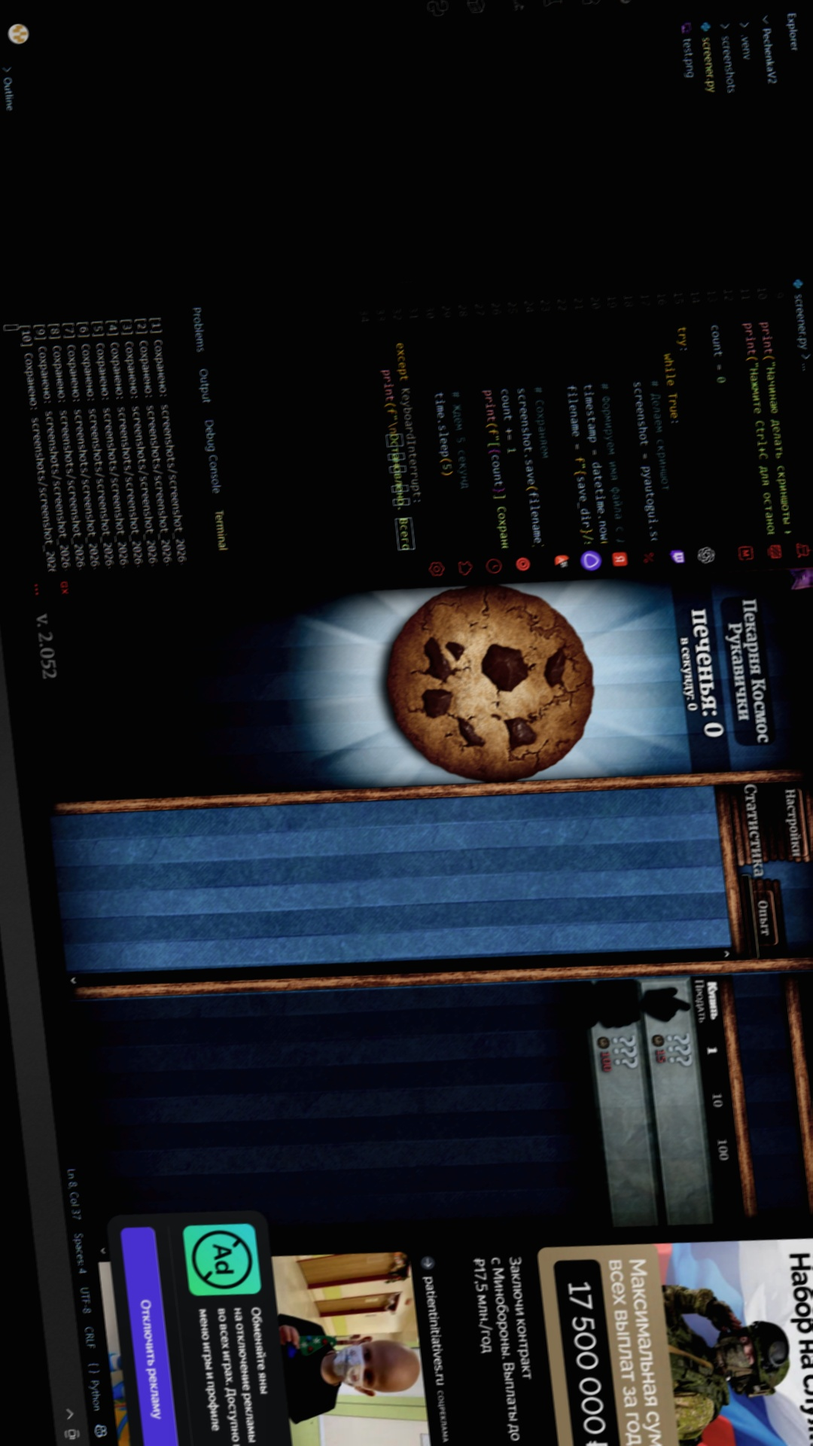game: (373, 584, 596, 783)
pokypki: (568, 975, 724, 1228)
